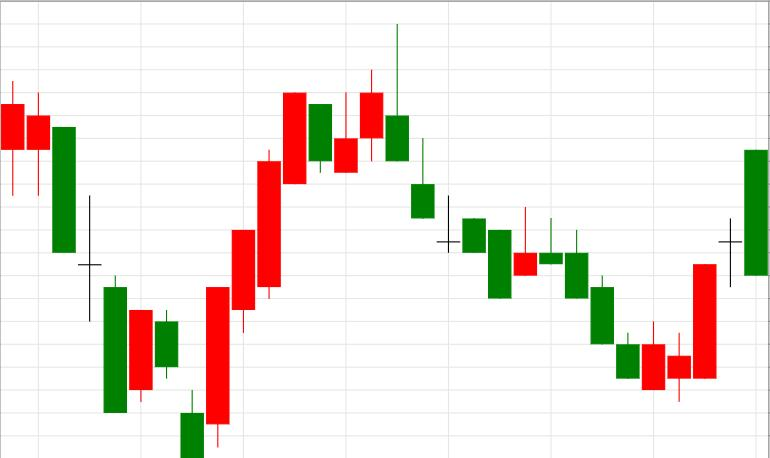bullish_engulfing_rise: (386, 24, 665, 391)
